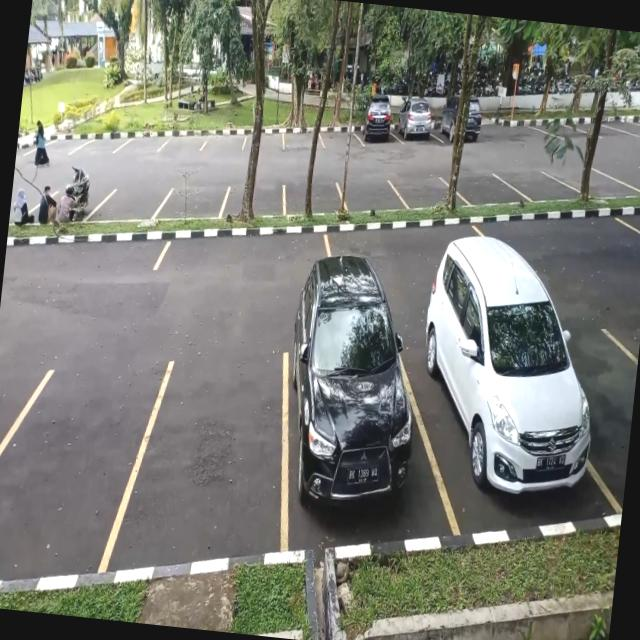car: (402, 250, 624, 546), (279, 254, 459, 555), (394, 101, 438, 146), (355, 104, 397, 150)
free: (124, 351, 304, 576), (0, 350, 153, 581), (554, 321, 640, 514), (156, 223, 333, 291), (3, 226, 166, 289), (97, 182, 168, 226), (160, 180, 228, 222), (338, 173, 402, 216), (396, 173, 460, 216), (226, 178, 288, 219), (281, 177, 343, 217), (455, 170, 515, 210), (511, 166, 572, 205), (567, 166, 626, 201), (8, 178, 50, 226), (203, 124, 247, 154), (120, 126, 163, 156), (320, 121, 359, 152), (164, 126, 207, 154), (82, 129, 124, 157), (242, 125, 283, 152), (283, 124, 322, 152), (623, 163, 640, 196)
